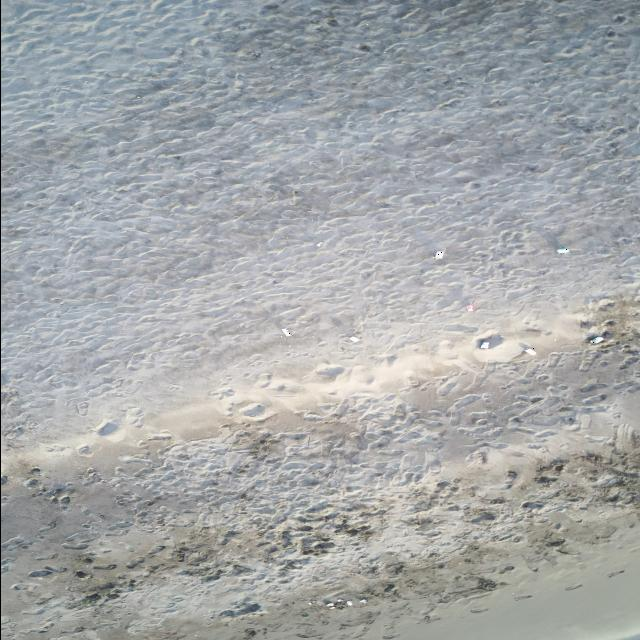Garbage: (476, 333, 503, 348), (96, 420, 118, 435), (587, 332, 611, 344), (520, 343, 535, 355), (590, 335, 604, 344), (433, 249, 443, 258), (524, 347, 535, 355), (348, 335, 359, 343), (281, 327, 292, 335), (467, 301, 475, 311), (479, 340, 488, 347), (556, 247, 568, 252), (360, 597, 367, 604), (346, 600, 351, 606), (327, 602, 333, 607), (307, 600, 312, 604)
